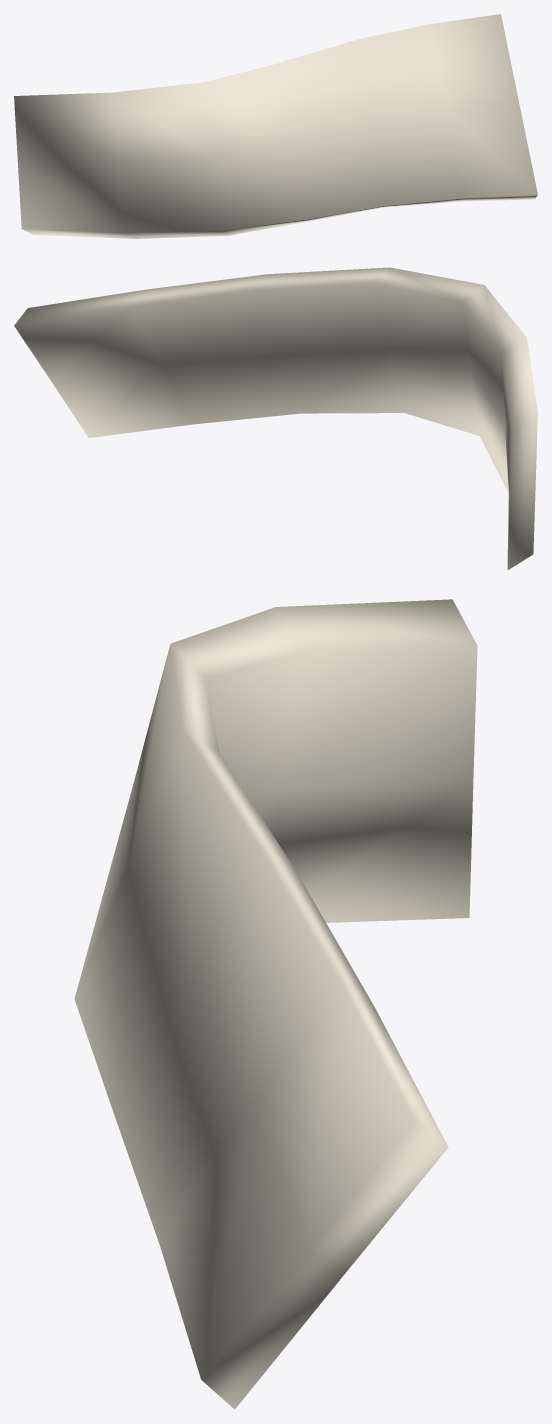
3 renders of one model, top to bottom at view 1: azimuth 30°, elevation 25°; view 2: azimuth 150°, elevation 25°; view 3: azimuth 270°, elevation 25°, orthographic. The views are drawn at different scales.
Visible parts, largest first — view 1: ZA_d777327b172ba670; view 2: ZA_d777327b172ba670; view 3: ZA_d777327b172ba670.
Boxes of the visible parts, <box> form: ZA_d777327b172ba670: <box>14,14,537,238</box>; ZA_d777327b172ba670: <box>14,267,537,569</box>; ZA_d777327b172ba670: <box>74,599,477,1409</box>.
Size of the model in its own units: 0.0192 by 0.00813 by 0.00695.
